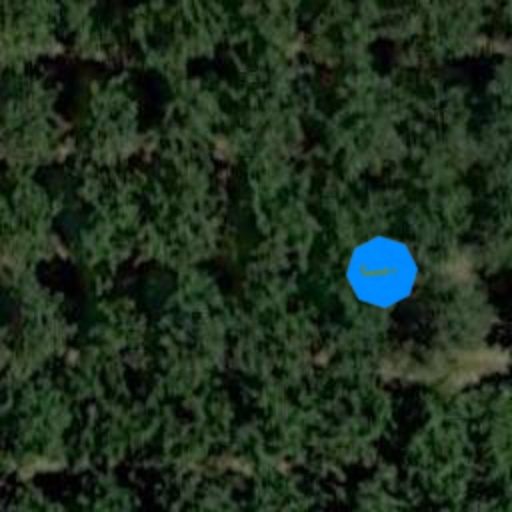octagon: (342, 232, 422, 312)
